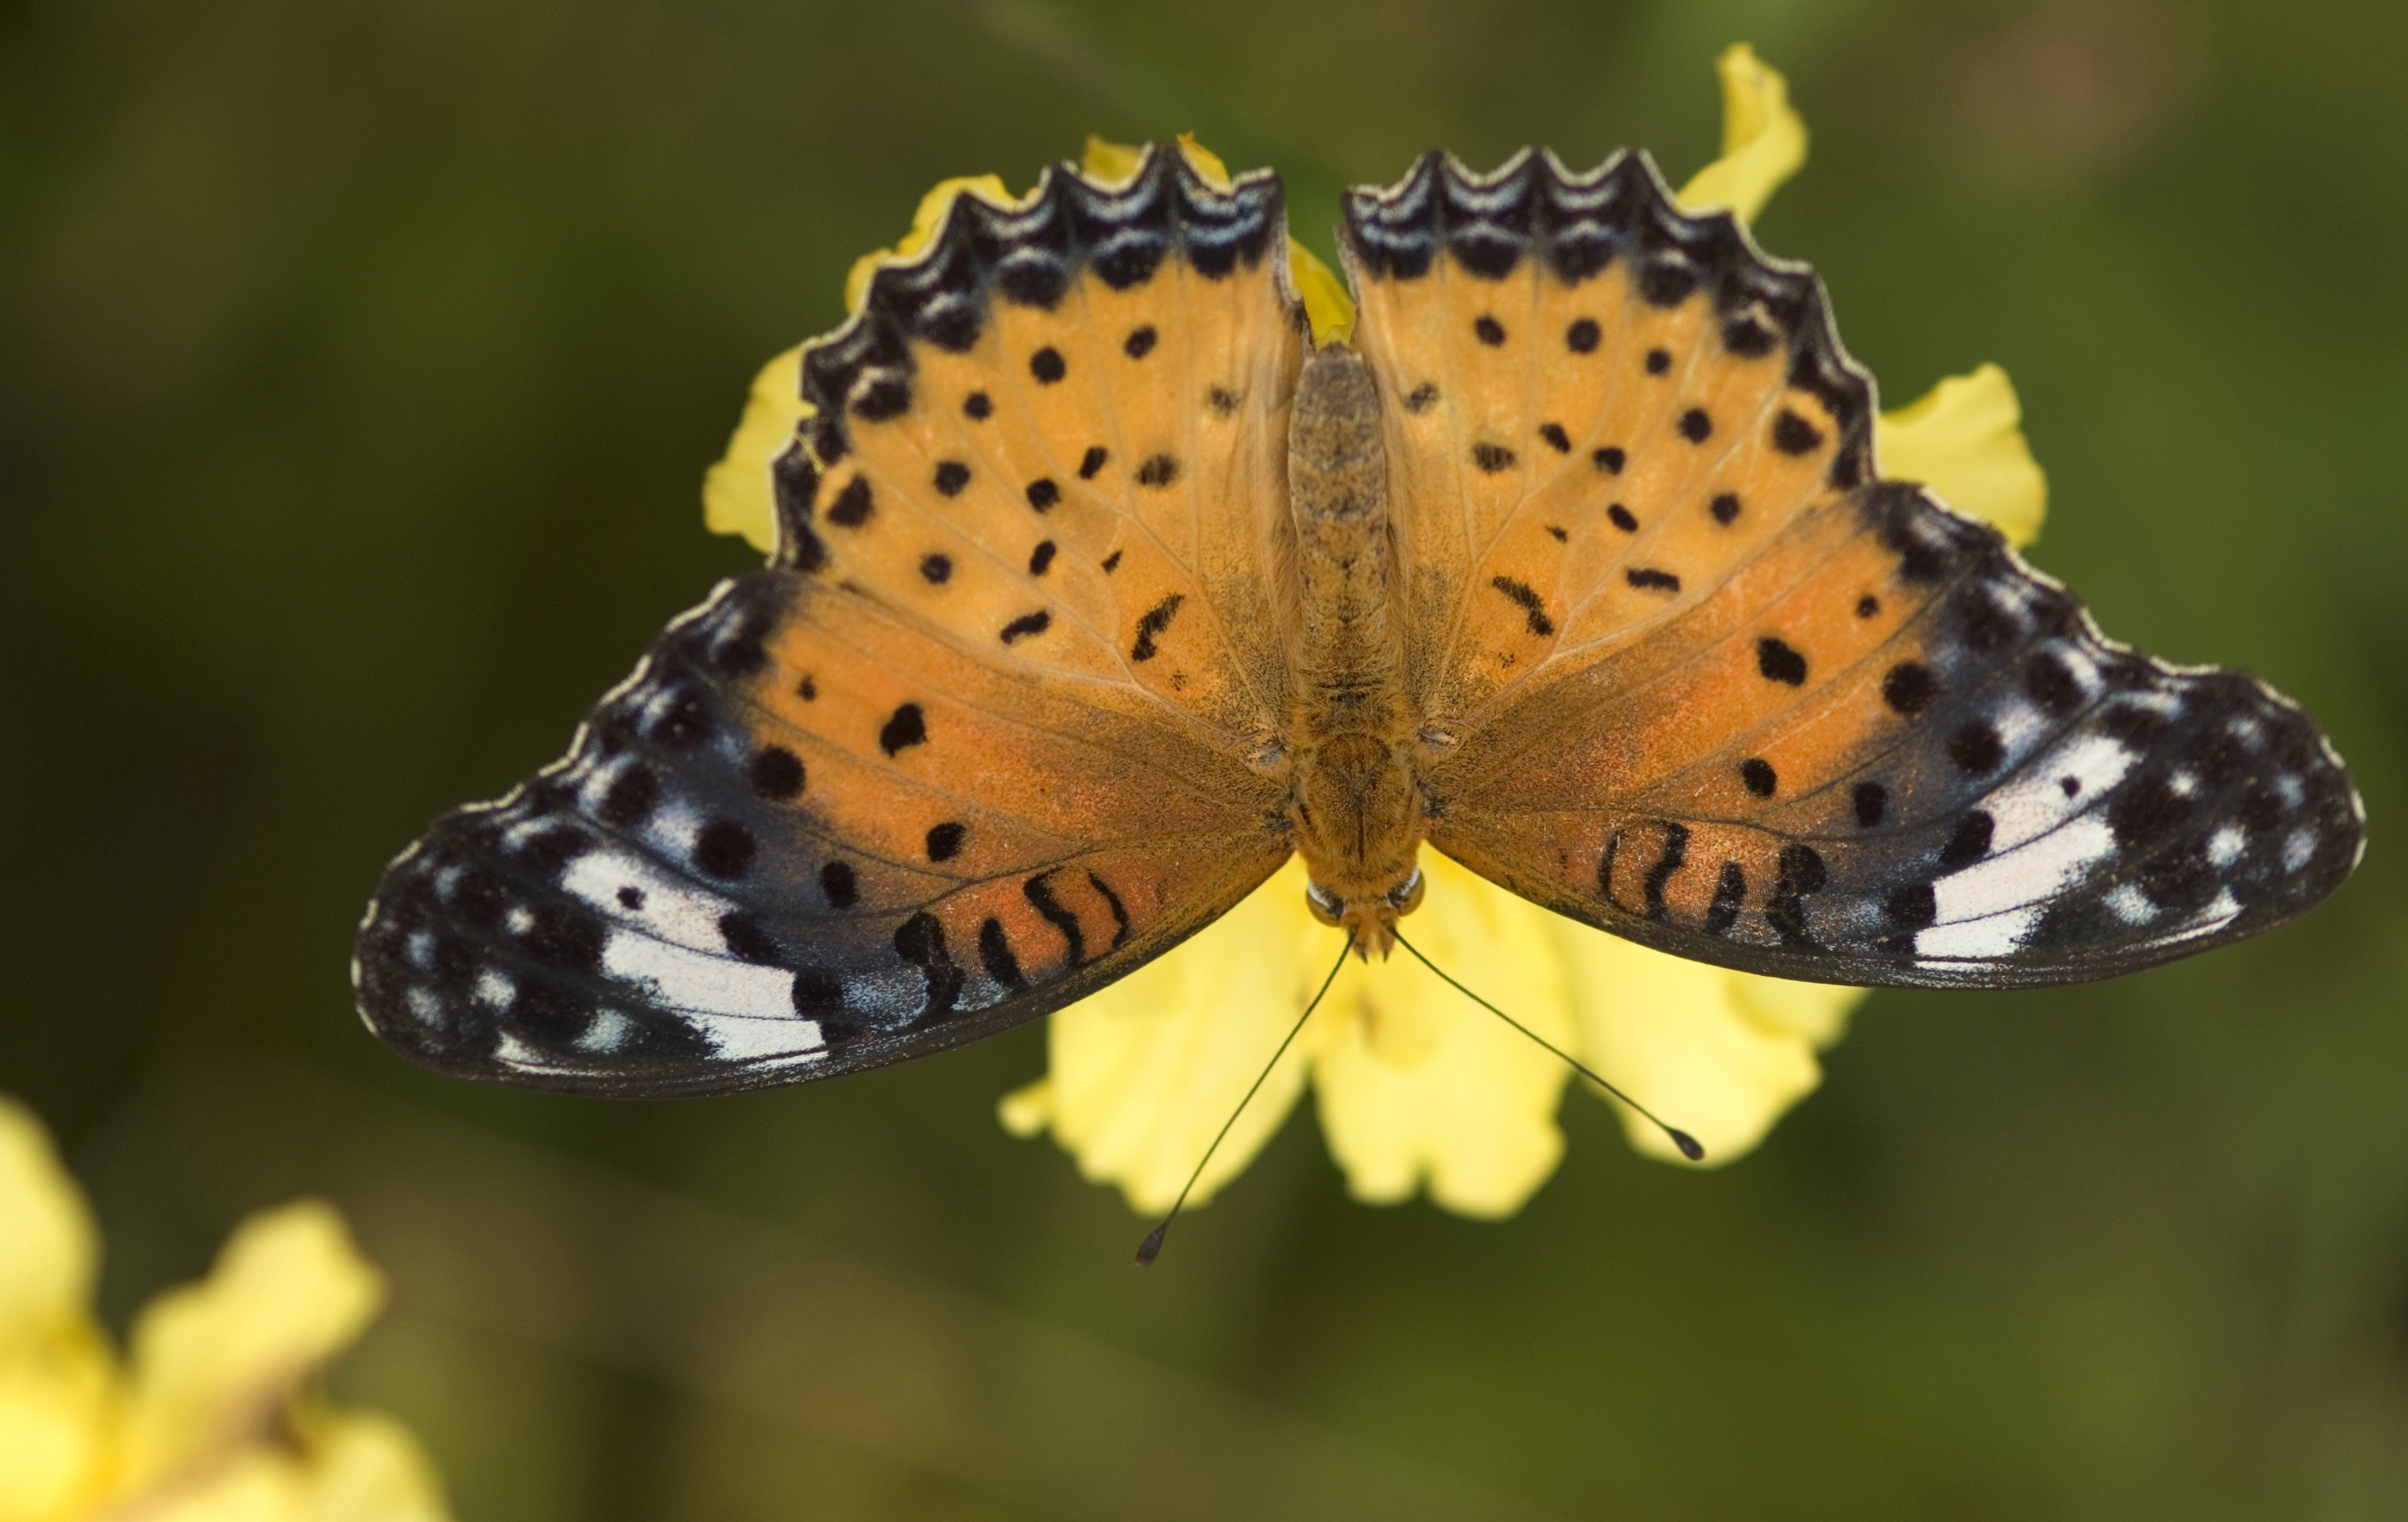Argyreus hyperbius: (321, 121, 2369, 1289)
butterfly: (319, 119, 2368, 1287)
